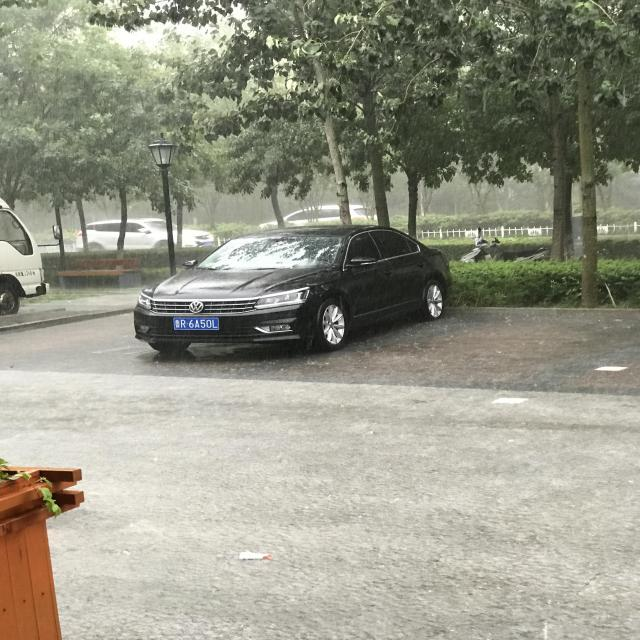car: (225, 188, 352, 508), (196, 578, 314, 638), (218, 424, 252, 568), (204, 258, 229, 380)
